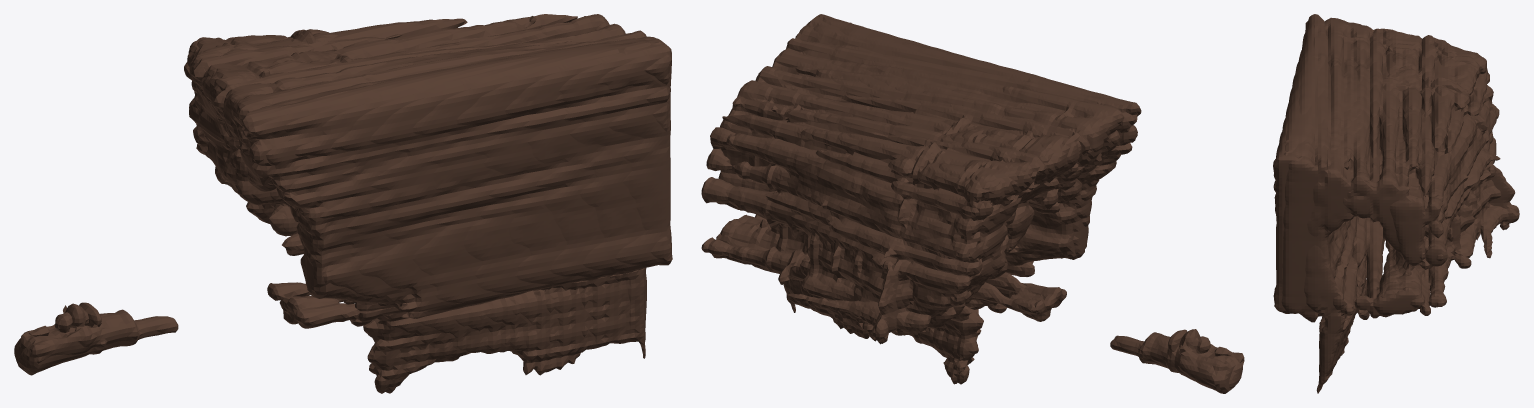
The model's file is raw.glb.
3 renders of one model, left to right at view 1: azimuth 30°, elevation 25°; view 2: azimuth 150°, elevation 25°; view 3: azimuth 270°, elevation 25°, orthographic. The views are drawn at different scales.
Parts seen in each view (by area): view 1: world; view 2: world; view 3: world.
Part boxes in pixels (x1=…): world: x1=14, y1=14, x2=672, y2=393; world: x1=701, y1=14, x2=1244, y2=393; world: x1=1273, y1=14, x2=1519, y2=393.
Bounding box in the file's own units: 1.2 × 0.6703 × 0.6104.
